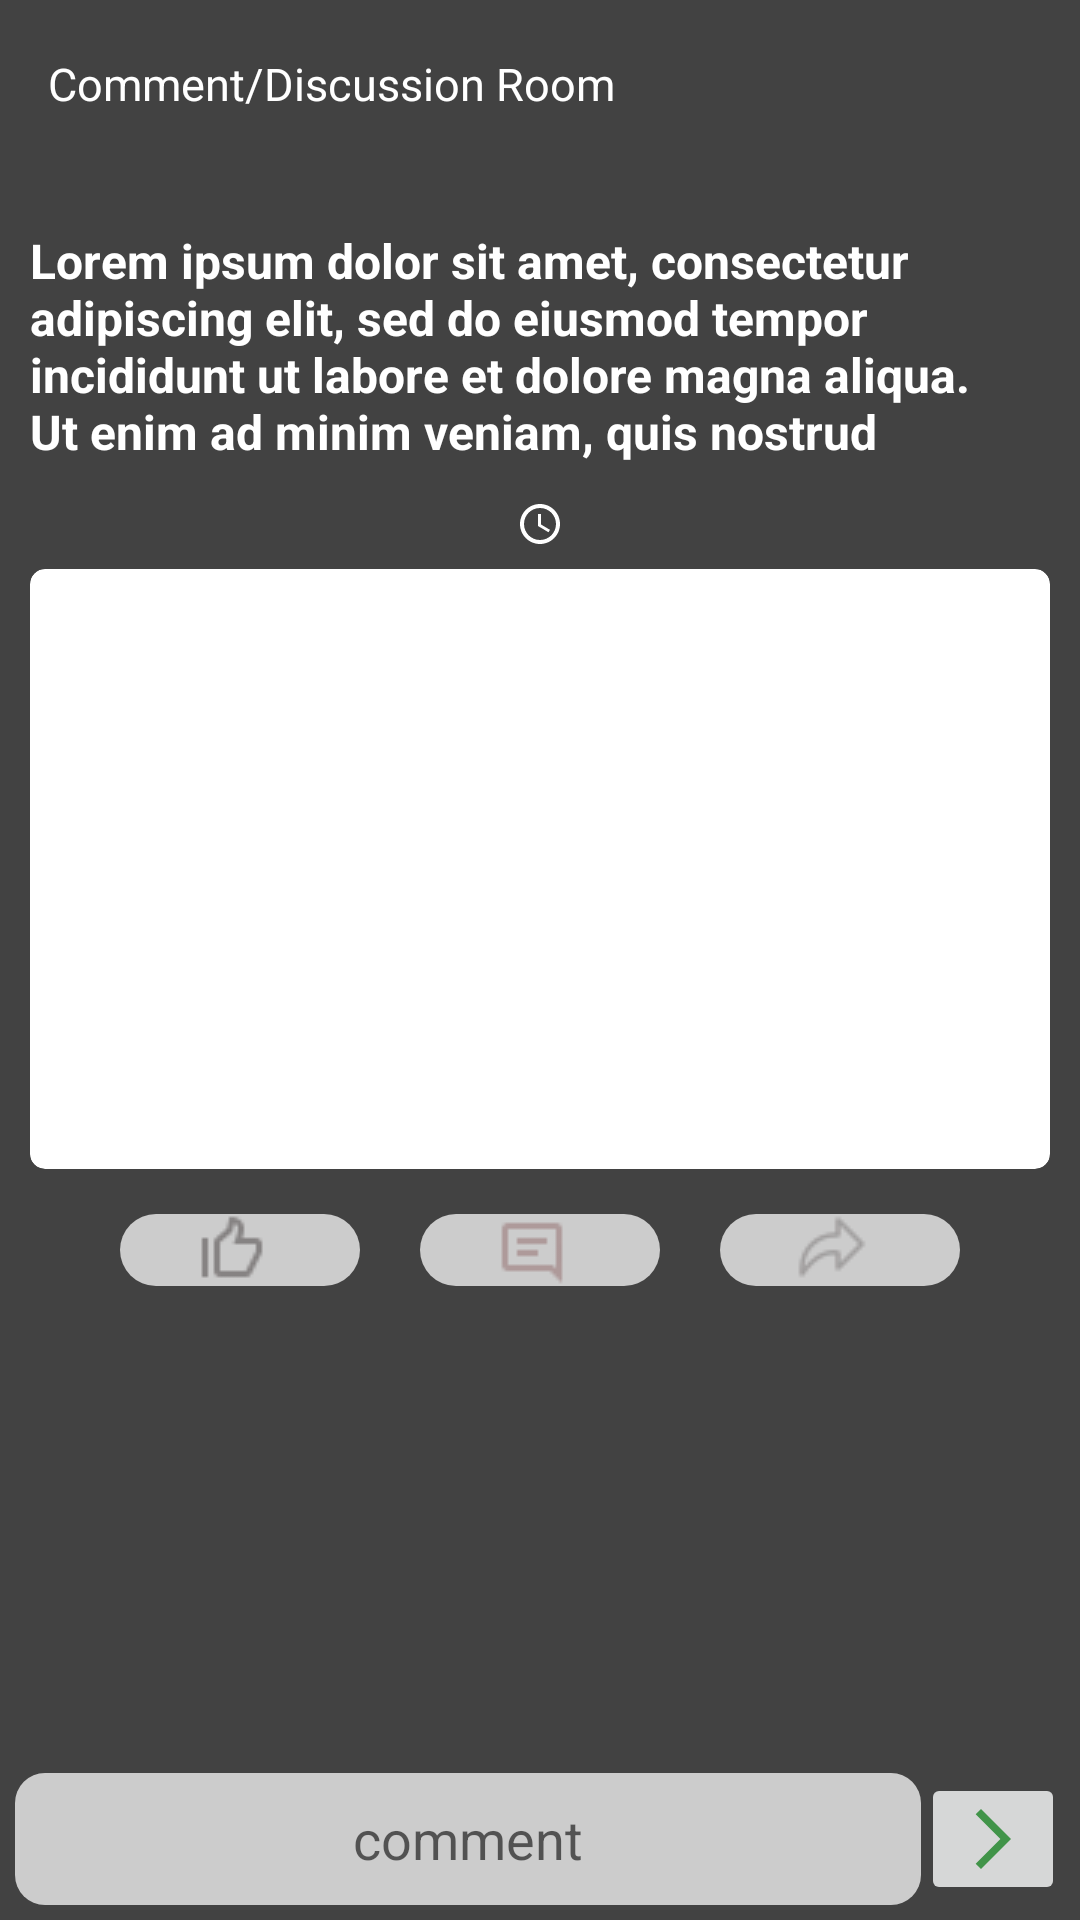

Screen size 1080×1920. Icon name, then its center in pixels as (x,y):
comment: (532,1252)
like: (232,1247)
morearrow: (993,1839)
share: (831,1247)
